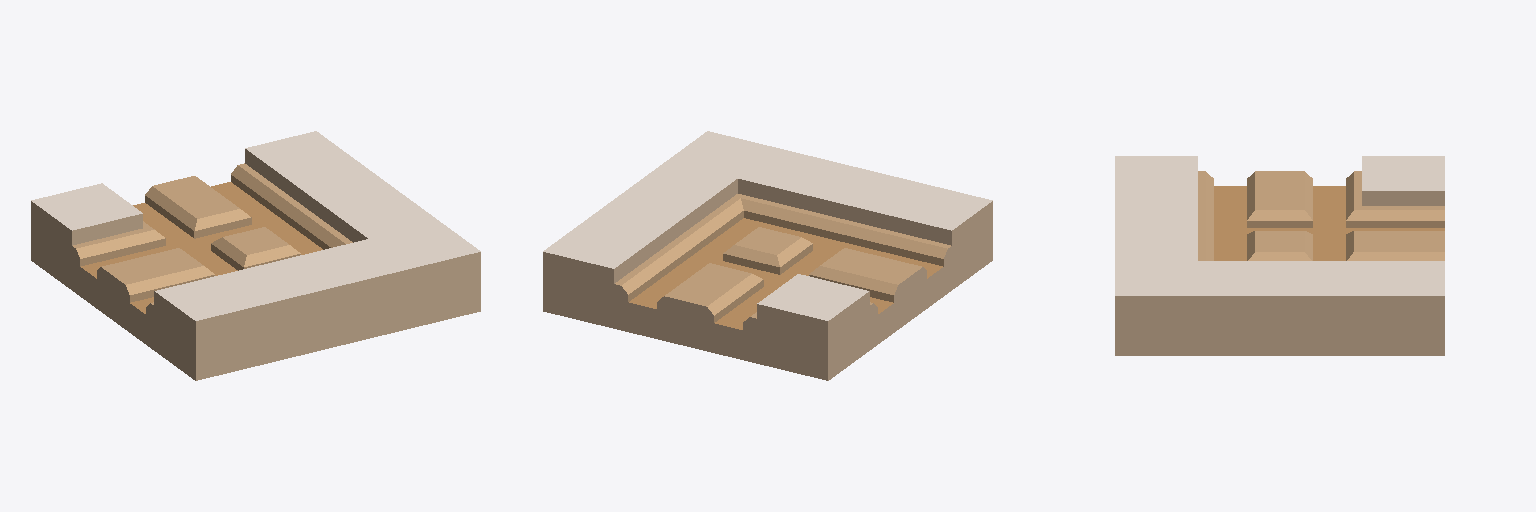
File: Puzzle_Track_Standard_Corner.obj
3 renders of one model, left to right at view 1: azimuth 30°, elevation 25°; view 2: azimuth 150°, elevation 25°; view 3: azimuth 270°, elevation 25°, orthographic.
Parts seen in each view (by area): view 1: object1; view 2: object1; view 3: object1.
Boxes of the visible parts, x1,y1,x2,y2 form: object1: [31, 131, 480, 380]; object1: [543, 131, 992, 380]; object1: [1115, 156, 1444, 355].
Size of the model in its own units: 1 by 0.2 by 1.